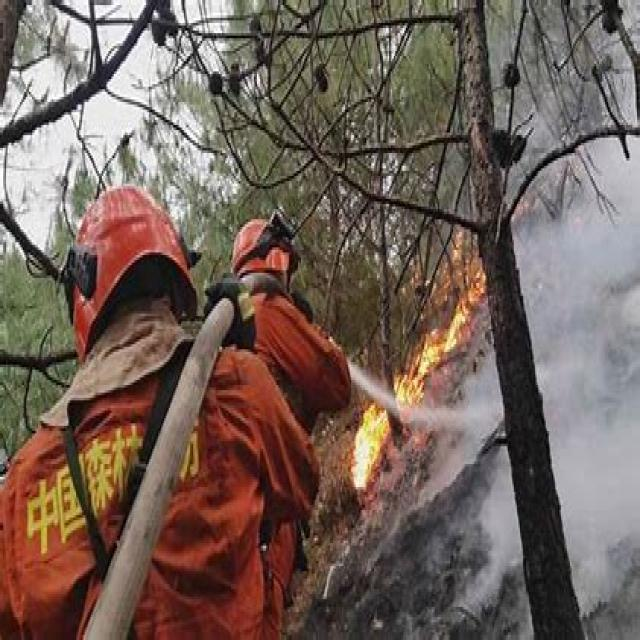fire: (416, 212, 489, 387), (352, 362, 426, 496)
